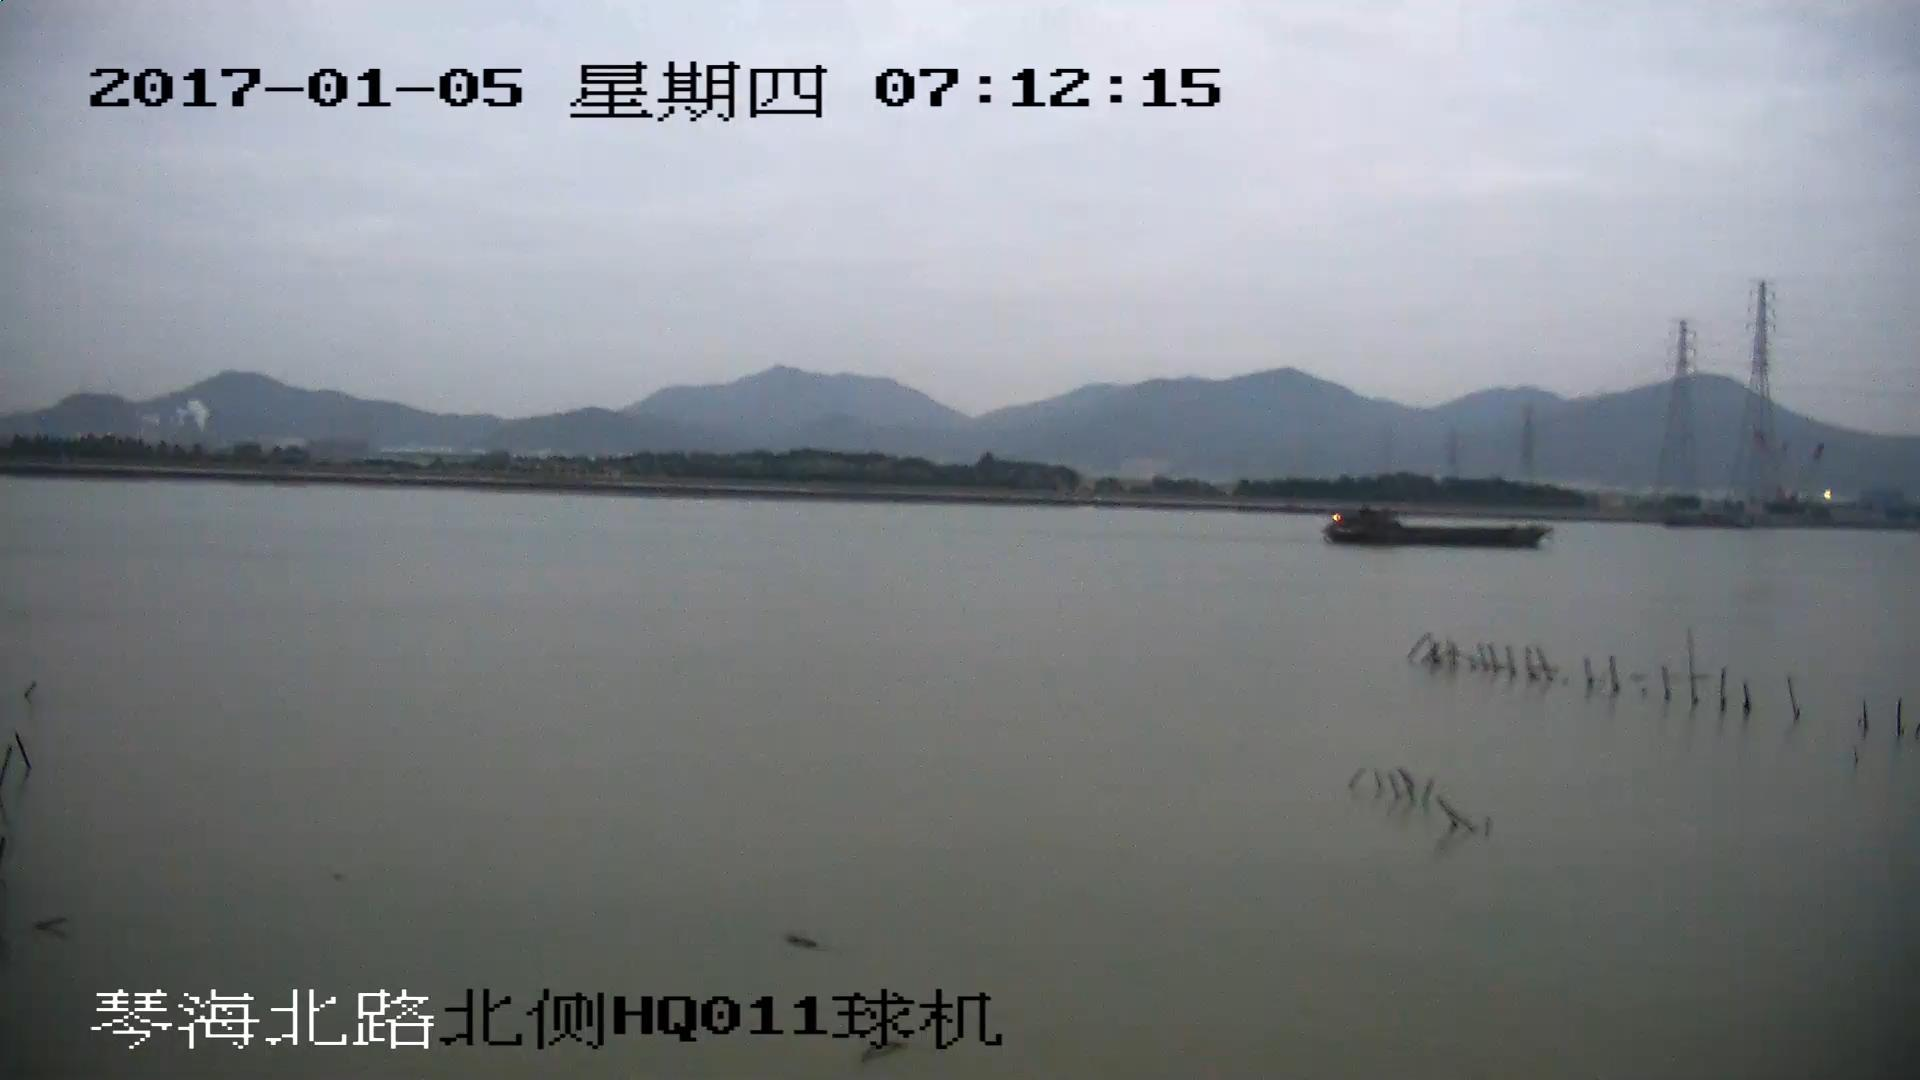Ship: (1323, 514, 1551, 550)
